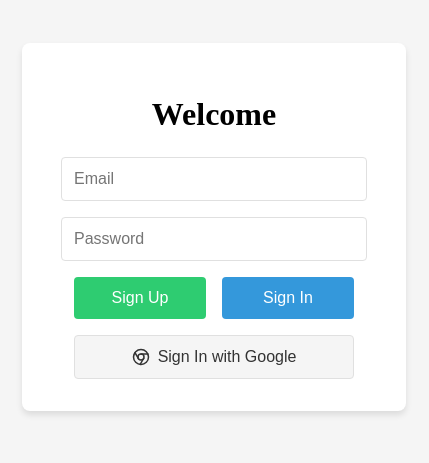
AuthForm › Sign Up › handles sign up error
Type "test@example.com" into the field with placeholder "Email". click: (214, 179)
box: [61,157,367,201]
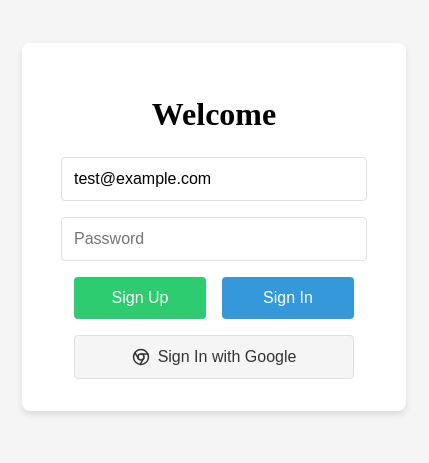
Type "password123" into the password field with placeholder "Password". click: (214, 239)
box: [61,217,367,261]
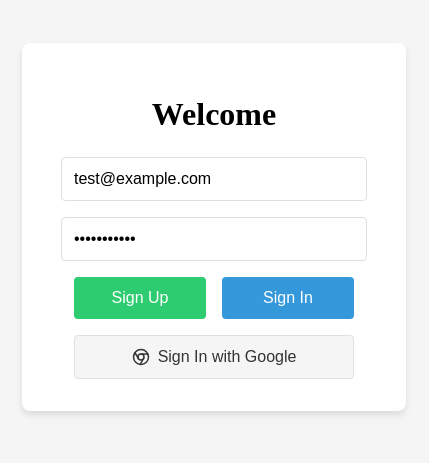
Click the button "Sign Up". click: (140, 298)
box: [74,277,206,319]
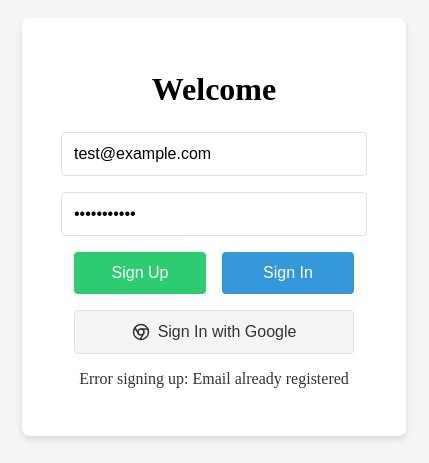
expect the text "Error signing up: Email already registered" is shown: met, box [79,370,349,388]
